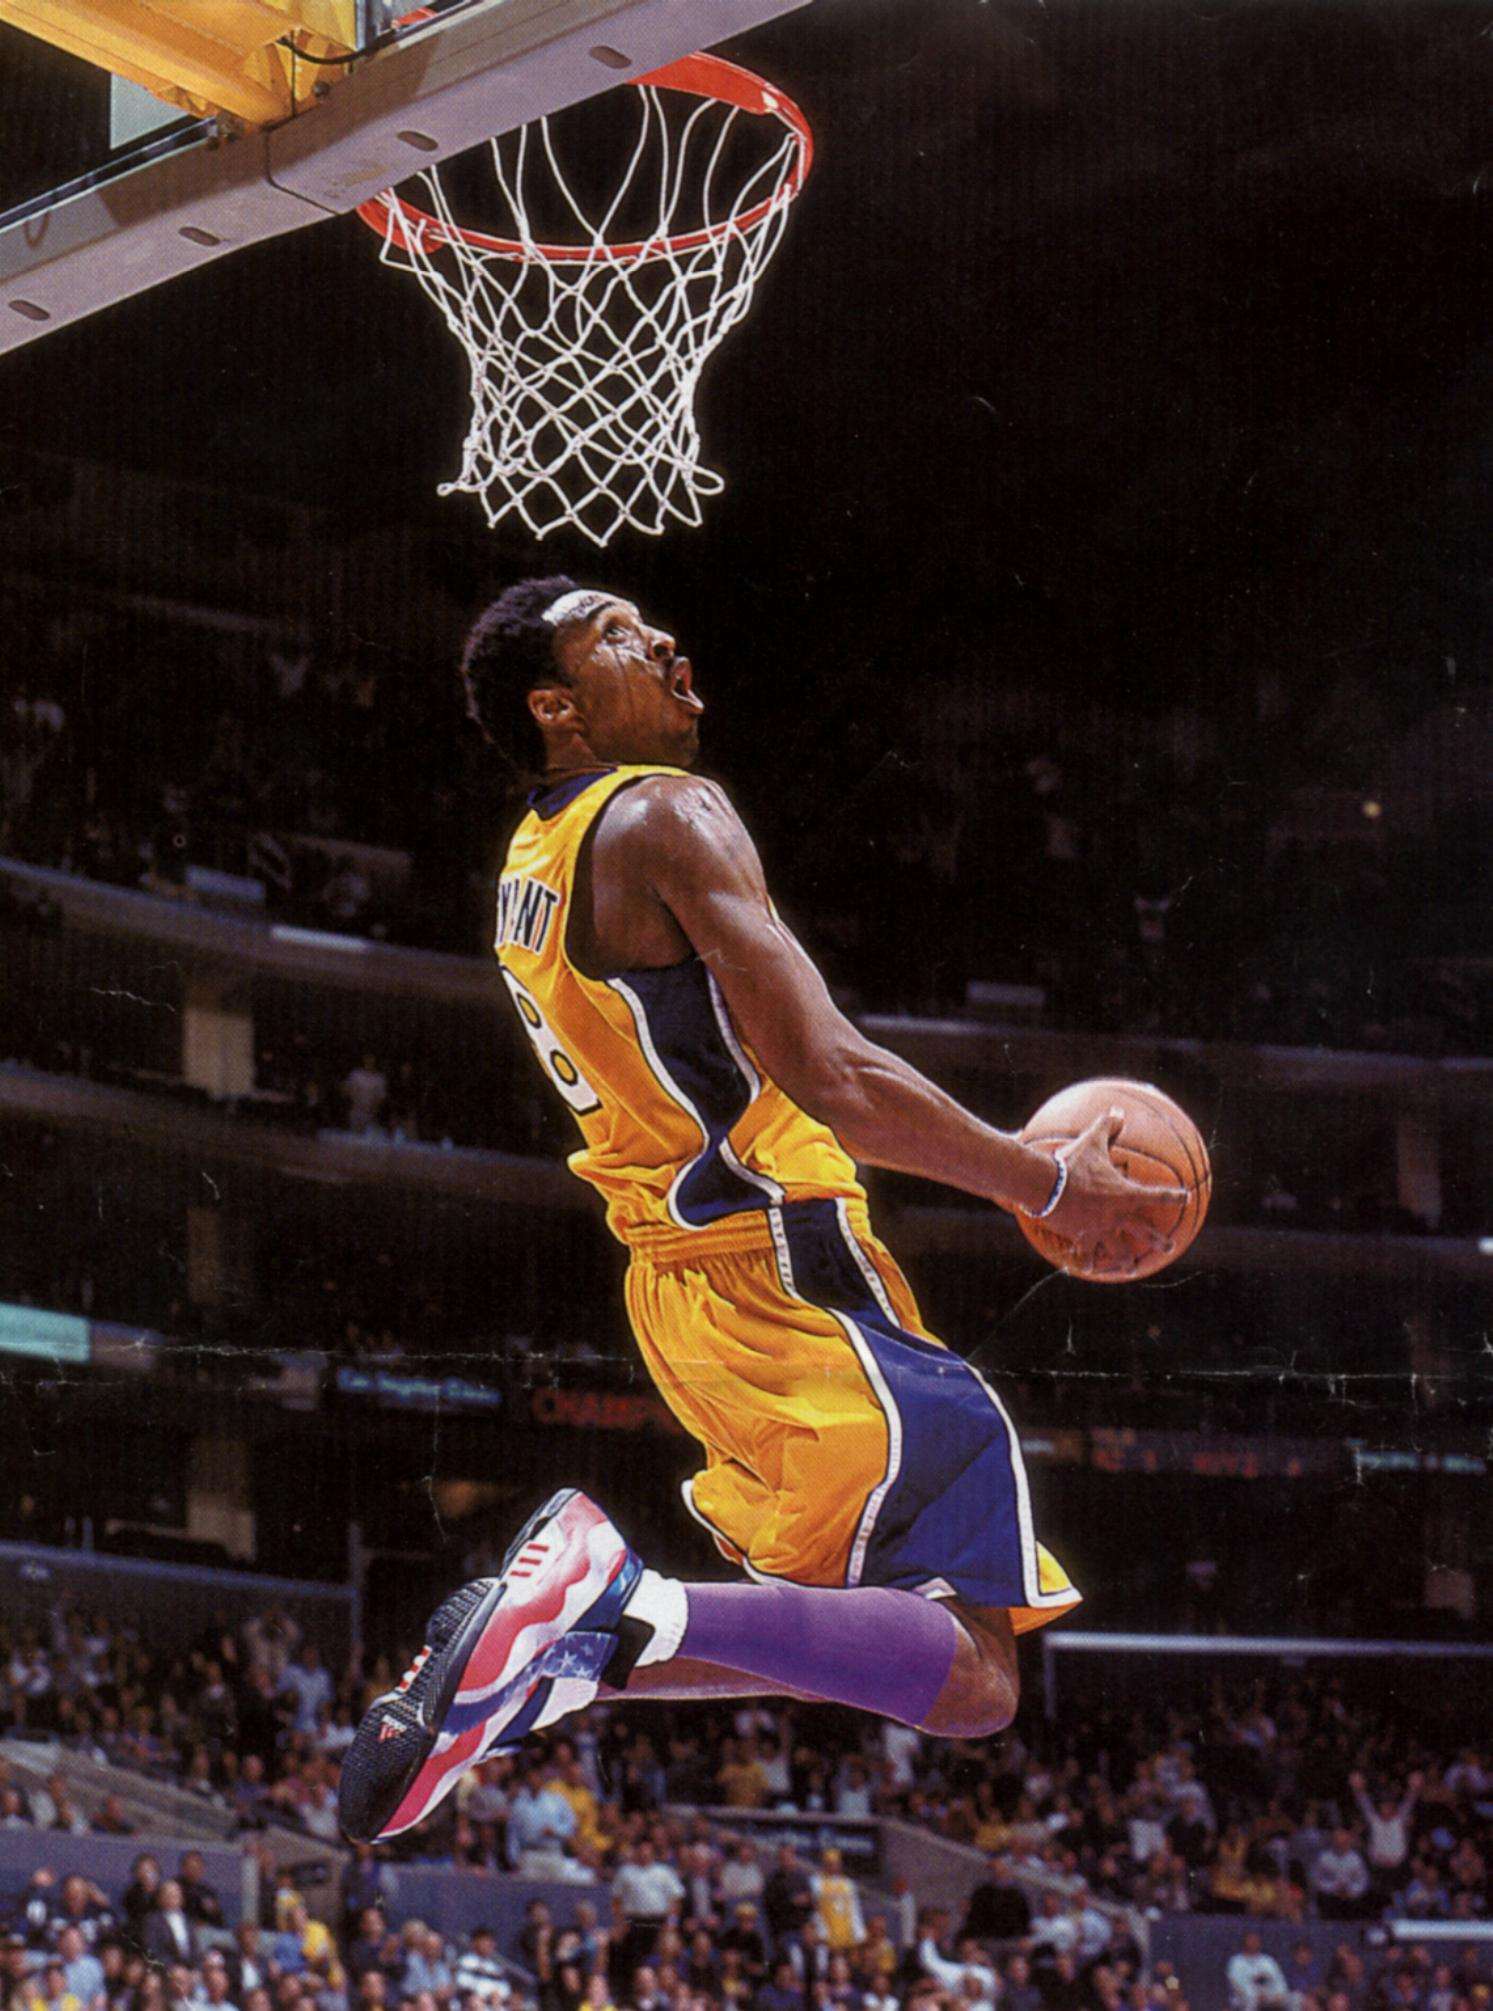basketball: (1018, 1076, 1212, 1283)
